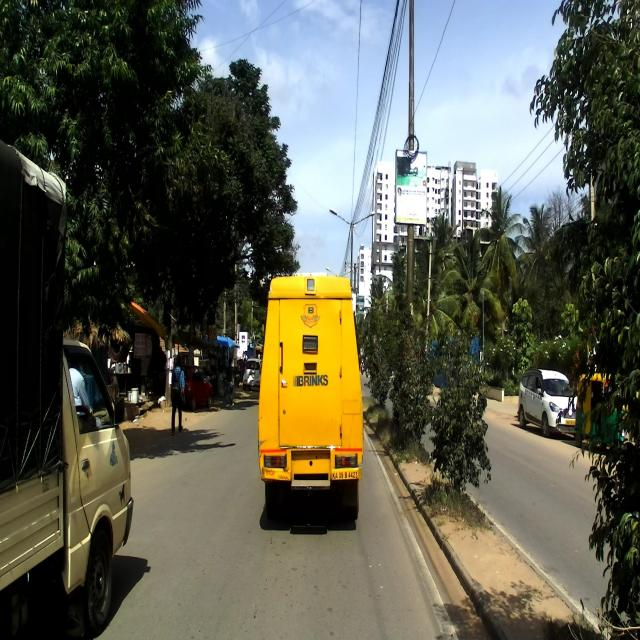autorickshaw: (574, 372, 626, 456)
car: (518, 367, 577, 438)
truck: (0, 127, 134, 638), (259, 273, 365, 525)
